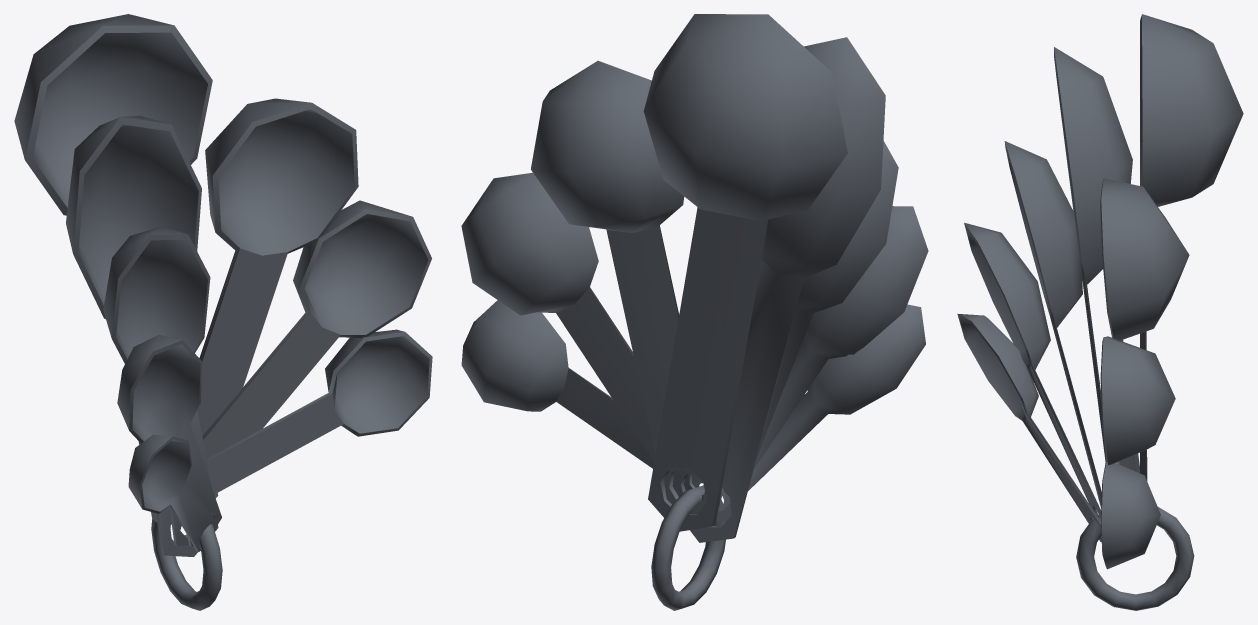
File: Measuring Spoons-32oypFuMuX.glb
3 renders of one model, left to right at view 1: azimuth 30°, elevation 25°; view 2: azimuth 150°, elevation 25°; view 3: azimuth 270°, elevation 25°, orthographic. The views are drawn at different scales.
Parts seen in each view (by area): view 1: mspoon_measuring_spoon_stack_small_medium_w/ring_Sphere.010; view 2: mspoon_measuring_spoon_stack_small_medium_w/ring_Sphere.010; view 3: mspoon_measuring_spoon_stack_small_medium_w/ring_Sphere.010.
Part boxes in pixels (box(x1,y1,x2,y2)): mspoon_measuring_spoon_stack_small_medium_w/ring_Sphere.010: box(14, 14, 432, 610); mspoon_measuring_spoon_stack_small_medium_w/ring_Sphere.010: box(461, 14, 928, 610); mspoon_measuring_spoon_stack_small_medium_w/ring_Sphere.010: box(957, 14, 1243, 610).
Bounding box in the file's own units: 1.37 × 2.02 × 0.9366.
Materials: 1 (1 with a texture image).
